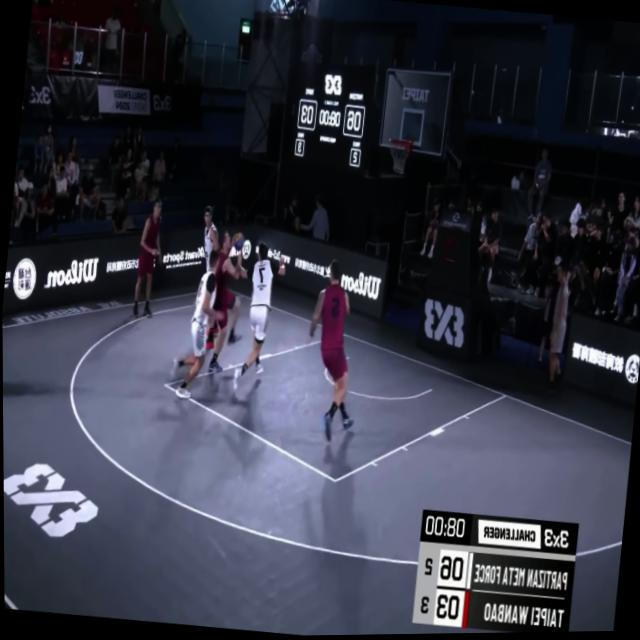ball: (230, 231, 244, 254)
hoop: (385, 134, 415, 183)
player: (296, 256, 371, 448), (168, 245, 225, 401), (234, 240, 285, 386), (198, 232, 248, 379), (128, 197, 167, 322), (194, 207, 219, 281)
